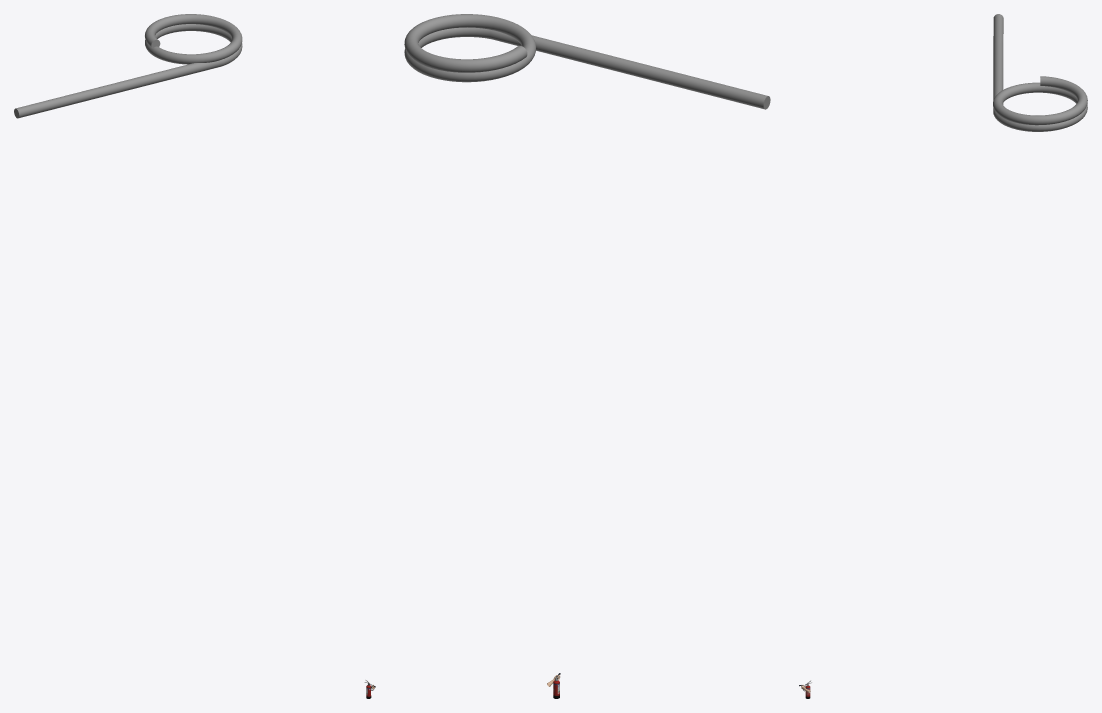
3 renders of one model, left to right at view 1: azimuth 30°, elevation 25°; view 2: azimuth 150°, elevation 25°; view 3: azimuth 270°, elevation 25°, orthographic. The views are drawn at different scales.
Parts seen in each view (by area): view 1: Spring; view 2: Spring; view 3: Spring.
Part boxes in pixels (box(x1,y1,x2,y2)): Spring: box(14, 14, 242, 118); Spring: box(404, 14, 770, 109); Spring: box(993, 14, 1087, 131).
Size of the model in its own units: 7.64 by 16.63 by 7.54.
Materials: 16 (4 with a texture image).
